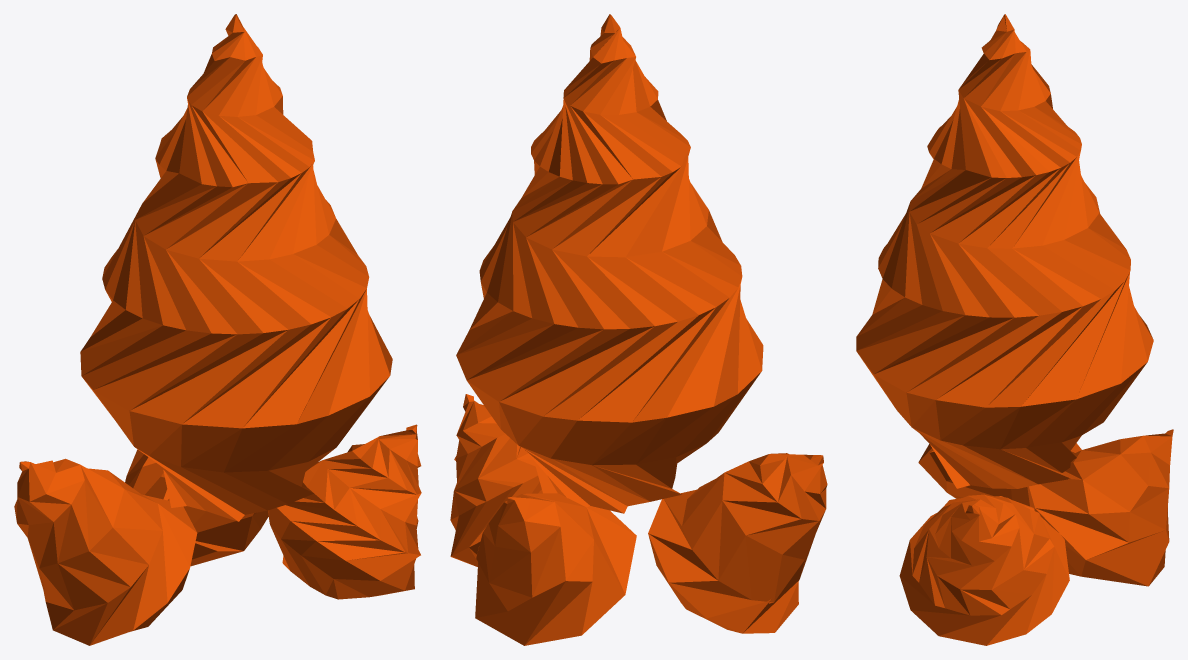
The model's file is tree-autumn-leaves-004.glb.
The picture shows the model from 3 angles, left to right: view 1: azimuth 30°, elevation 25°; view 2: azimuth 150°, elevation 25°; view 3: azimuth 270°, elevation 25°; orthographic projection. The views are drawn at different scales.
Parts seen in each view (by area): view 1: Circle.023_328; view 2: Circle.023_328; view 3: Circle.023_328.
Boxes of the visible parts, x1=… form: Circle.023_328: x1=14, y1=14, x2=421, y2=645; Circle.023_328: x1=450, y1=14, x2=827, y2=645; Circle.023_328: x1=856, y1=14, x2=1173, y2=645.
Size of the model in its own units: 1.05 by 1.56 by 0.7933.
